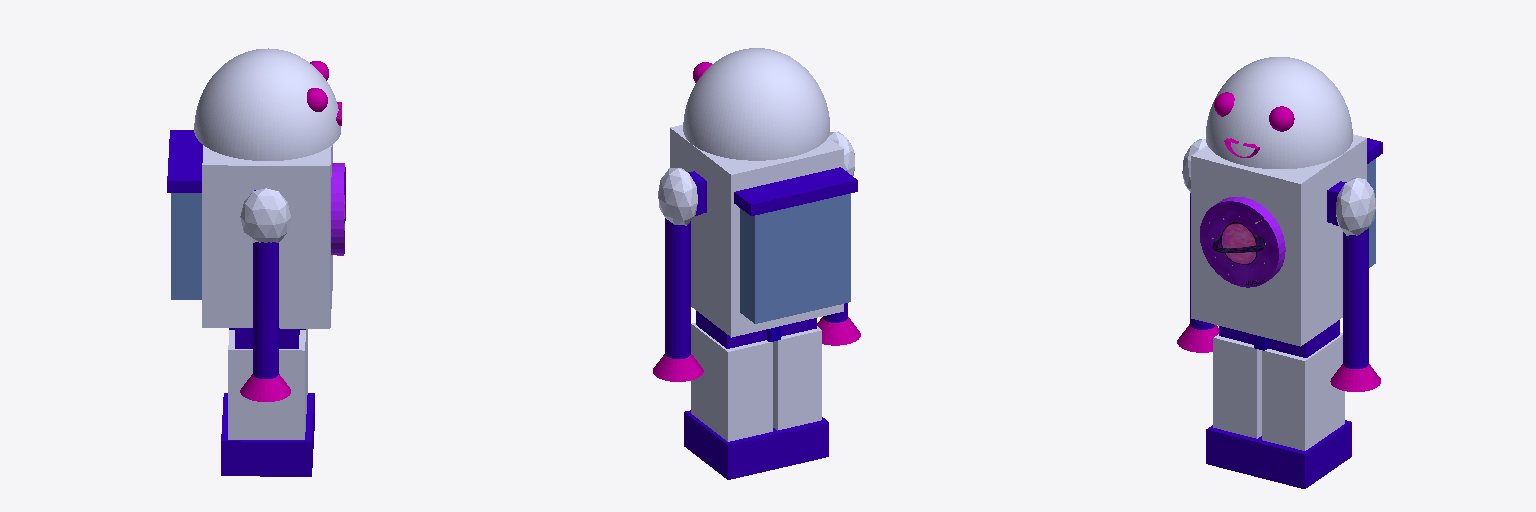
3 views of the same model, side by side, from view 1: azimuth 30°, elevation 25°; view 2: azimuth 150°, elevation 25°; view 3: azimuth 270°, elevation 25° (orthographic).
Visible parts, largest first — view 1: body; view 2: body; view 3: body.
Part boxes in pixels (left/top/right/bottom): body: left=167, top=48, right=345, bottom=476; body: left=653, top=48, right=860, bottom=479; body: left=1177, top=57, right=1382, bottom=488.
Size of the model in its own units: 3.22 by 6.85 by 3.21.
Materials: 7 (1 with a texture image).